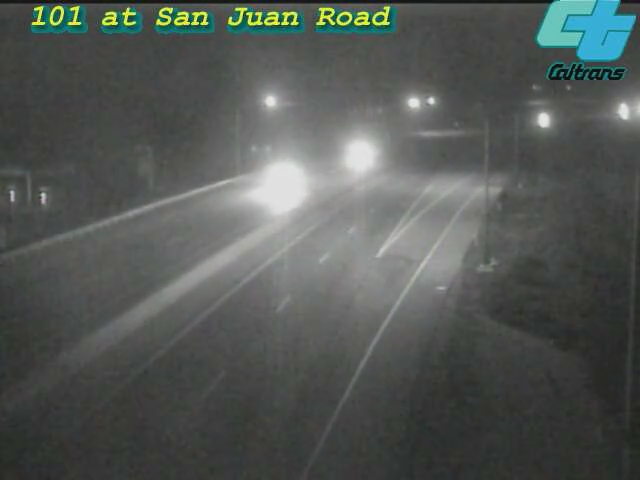vehicle: (247, 135, 327, 215), (318, 114, 398, 194), (518, 97, 568, 147), (596, 88, 640, 138)
